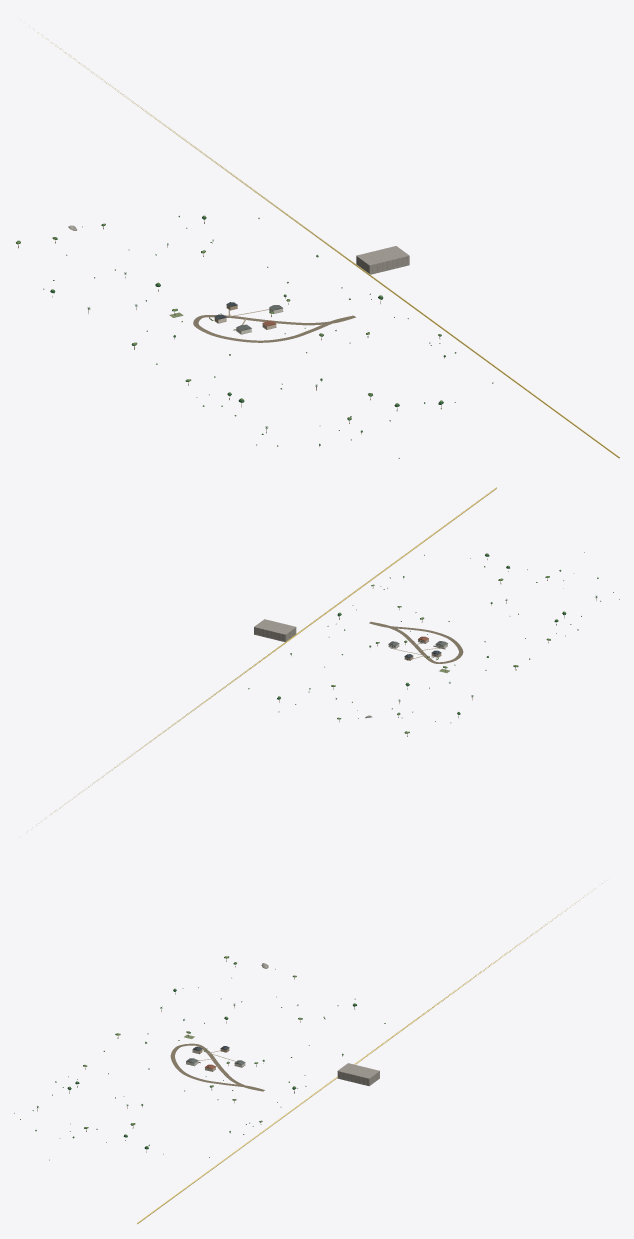
File: cell_6_-2_lod1.gltf
The picture shows the model from 3 angles, top to bottom: view 1: azimuth 30°, elevation 25°; view 2: azimuth 150°, elevation 25°; view 3: azimuth 330°, elevation 25°; orthographic projection. The views are drawn at different scales.
Visible parts, largest first — view 1: EKITI_RESERVE_BOUNDARY_REVIEW_V1, COMMUNITY_PAVILION_EAST_FOUNDATION, LANE_EAST_TERRACE_LOOP; view 2: EKITI_RESERVE_BOUNDARY_REVIEW_V1, COMMUNITY_PAVILION_EAST_FOUNDATION, LANE_EAST_TERRACE_LOOP; view 3: EKITI_RESERVE_BOUNDARY_REVIEW_V1, COMMUNITY_PAVILION_EAST_FOUNDATION, LANE_EAST_TERRACE_LOOP.
Part boxes in pixels (x1,y1,x2,y2): EKITI_RESERVE_BOUNDARY_REVIEW_V1: (29,27,619,458); COMMUNITY_PAVILION_EAST_FOUNDATION: (215,246,409,323); LANE_EAST_TERRACE_LOOP: (193,315,355,342); EKITI_RESERVE_BOUNDARY_REVIEW_V1: (27,487,496,831); COMMUNITY_PAVILION_EAST_FOUNDATION: (254,619,441,660); LANE_EAST_TERRACE_LOOP: (369,621,463,663); EKITI_RESERVE_BOUNDARY_REVIEW_V1: (137,878,609,1224); COMMUNITY_PAVILION_EAST_FOUNDATION: (192,1050,379,1086); LANE_EAST_TERRACE_LOOP: (170,1043,264,1091).
Size of the model in its own units: 289 by 21.71 by 1001.
Materials: 46 (5 with a texture image).
